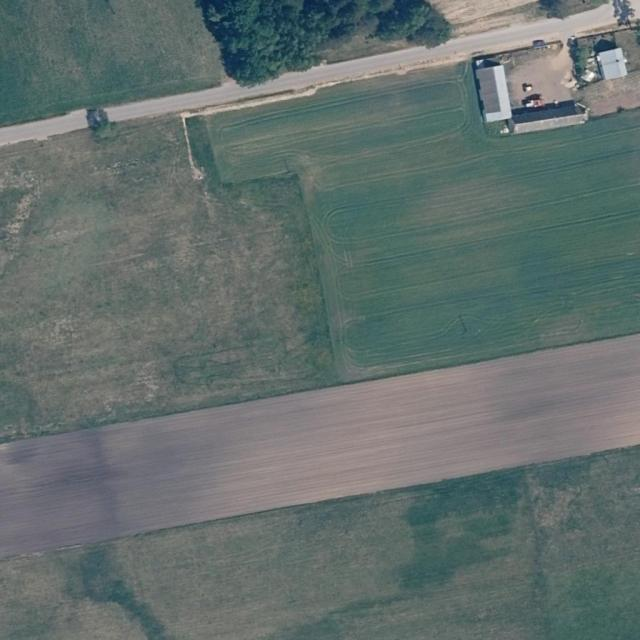agricultural_land: (187, 34, 640, 404)
metalled_road: (104, 4, 616, 131), (0, 108, 90, 150)
